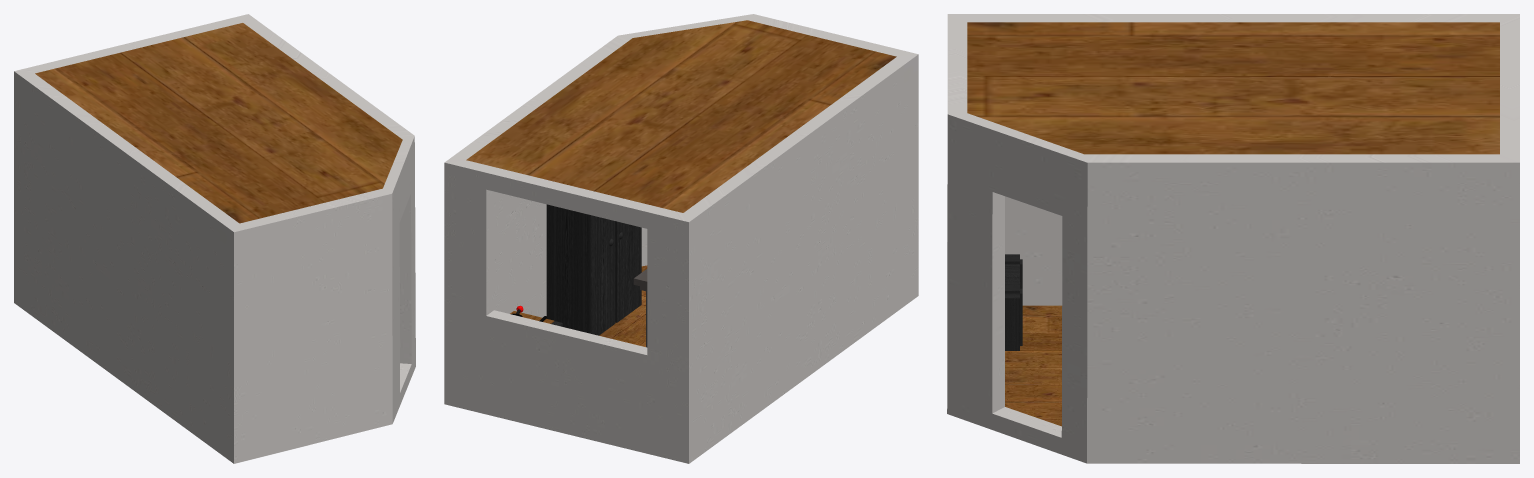
The model's file is kamer_van_Haren.glb.
3 renders of one model, left to right at view 1: azimuth 30°, elevation 25°; view 2: azimuth 150°, elevation 25°; view 3: azimuth 270°, elevation 25°, orthographic. The views are drawn at different scales.
Visible parts, largest first — view 1: room.001, roof; view 2: room.001, roof, Cube (2), Cube (1), Cube, Cube (5), Cube (6); view 3: room.001, roof, Cube (2).002.
Part boxes in pixels (x1=…): room.001: x1=14, y1=14, x2=415, y2=463; roof: x1=35, y1=23, x2=402, y2=223; room.001: x1=444, y1=14, x2=918, y2=463; roof: x1=466, y1=20, x2=896, y2=212; Cube (2): x1=546, y1=204, x2=589, y2=333; Cube (1): x1=589, y1=215, x2=615, y2=335; Cube: x1=615, y1=221, x2=641, y2=322; Cube (5): x1=579, y1=212, x2=584, y2=331; Cube (6): x1=550, y1=205, x2=555, y2=320; room.001: x1=947, y1=14, x2=1519, y2=463; roof: x1=967, y1=22, x2=1499, y2=154; Cube (2).002: x1=1005, y1=254, x2=1019, y2=350.
Size of the model in its own units: 3.05 by 2.87 by 4.95.
14 materials, 8 textured.
